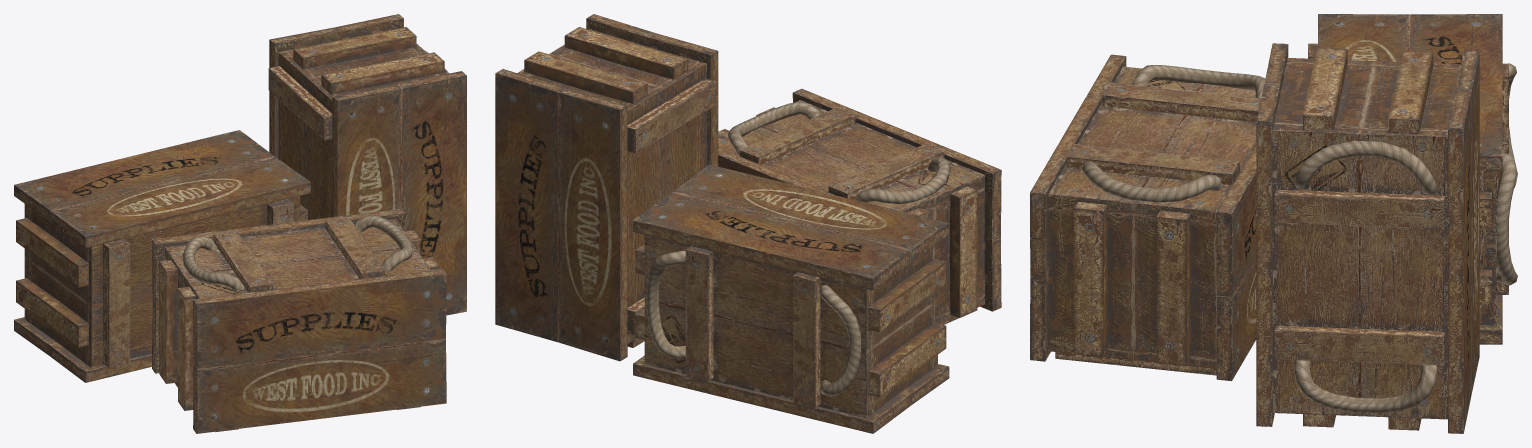
Rendered from SM_Supply_Box_Set1.FBX.
3 views of the same model, side by side, from view 1: azimuth 30°, elevation 25°; view 2: azimuth 150°, elevation 25°; view 3: azimuth 270°, elevation 25° (orthographic). The views are drawn at different scales.
Parts seen in each view (by area): view 1: Supply_Box_Set1; view 2: Supply_Box_Set1; view 3: Supply_Box_Set1.
Boxes of the visible parts, x1,y1,x2,y2 form: Supply_Box_Set1: (14,14,466,433); Supply_Box_Set1: (495,14,1001,433); Supply_Box_Set1: (1030,14,1517,433).
Size of what is drawn, in the model's own units: 180 by 112 by 155.
Materials: 1 (1 with a texture image).
